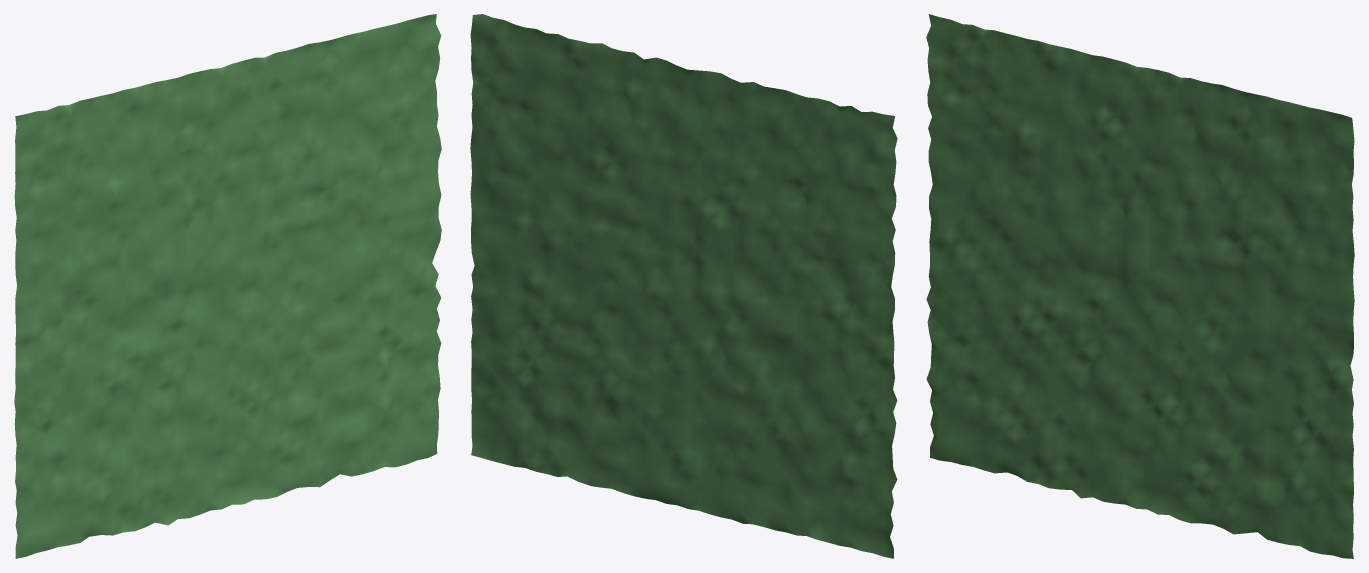
File: Rgn_Terrain.obj
3 renders of one model, left to right at view 1: azimuth 30°, elevation 25°; view 2: azimuth 150°, elevation 25°; view 3: azimuth 330°, elevation 25°, orthographic.
Parts seen in each view (by area): view 1: Regular Plane3; view 2: Regular Plane3; view 3: Regular Plane3.
Part boxes in pixels (bbox=[...]): Regular Plane3: bbox=[14, 14, 441, 558]; Regular Plane3: bbox=[470, 14, 897, 558]; Regular Plane3: bbox=[926, 14, 1354, 558].
Size of the model in its own units: 4.03 by 4.03 by 0.1065.
